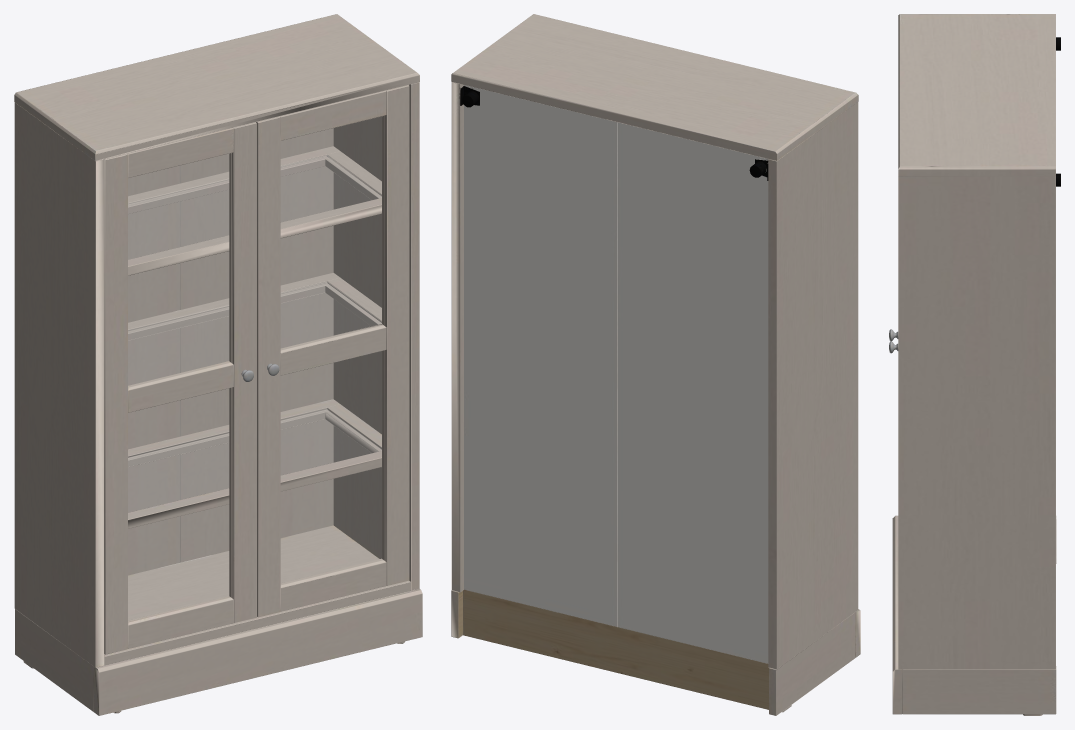
Rendered from havsta_szafka_witryna_z_cokoem_49534652.glb.
3 views of the same model, side by side, from view 1: azimuth 30°, elevation 25°; view 2: azimuth 150°, elevation 25°; view 3: azimuth 270°, elevation 25° (orthographic). The views are drawn at different scales.
Visible parts, largest first — view 1: havsta_szafka_witryna_z_cokoem_49534652; view 2: havsta_szafka_witryna_z_cokoem_49534652; view 3: havsta_szafka_witryna_z_cokoem_49534652.
Boxes of the visible parts, left/top/right/bottom form: havsta_szafka_witryna_z_cokoem_49534652: left=14, top=14, right=422, bottom=715; havsta_szafka_witryna_z_cokoem_49534652: left=451, top=14, right=860, bottom=715; havsta_szafka_witryna_z_cokoem_49534652: left=889, top=14, right=1060, bottom=715.
Size of the model in its own units: 0.8102 by 1.35 by 0.3818.
2 materials, 1 textured.
